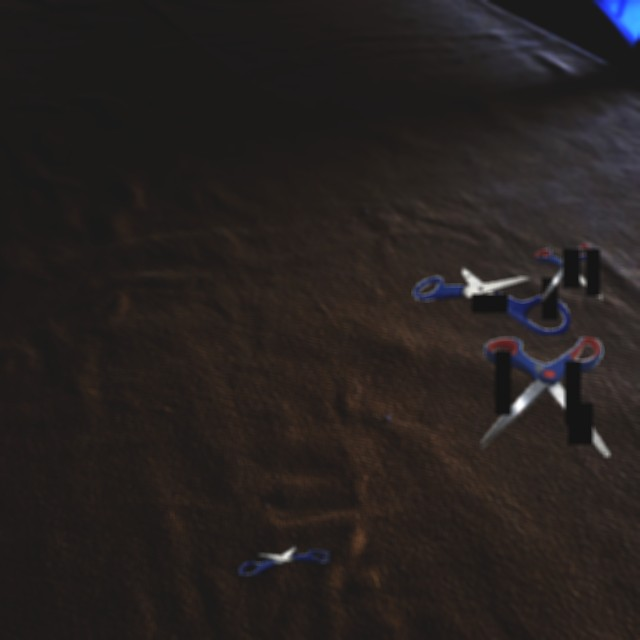scissors: (481, 337, 610, 457), (413, 268, 570, 335), (535, 244, 602, 301), (237, 546, 329, 575)
